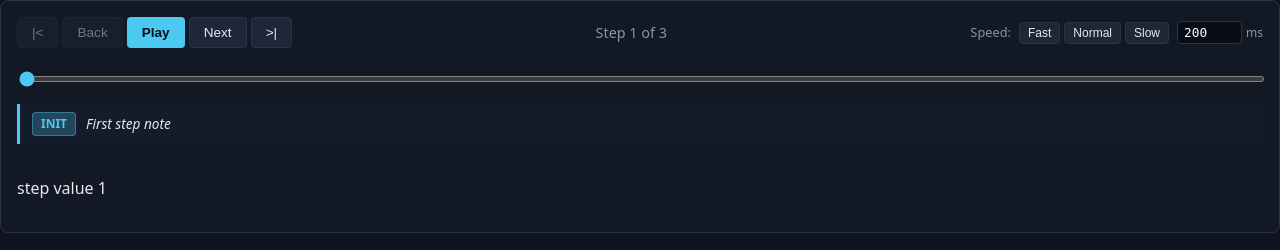
Scenario: StepPlayer component › auto-plays steps and pauses when reaching the end
Click the button "Play" at (156,32), box [127,17,185,48]
Wait 400 ms
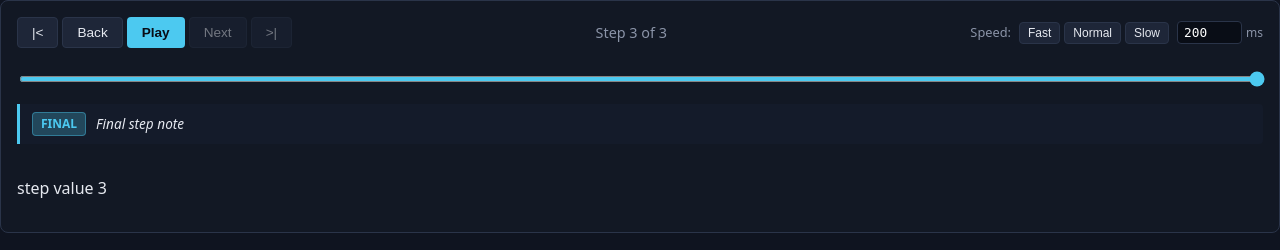
Expected: the text "step value 3" is shown, [17,177,107,199]
